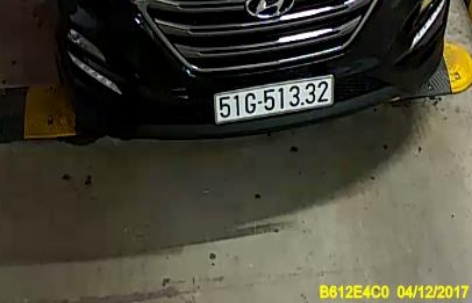plate: (204, 75, 338, 124)
